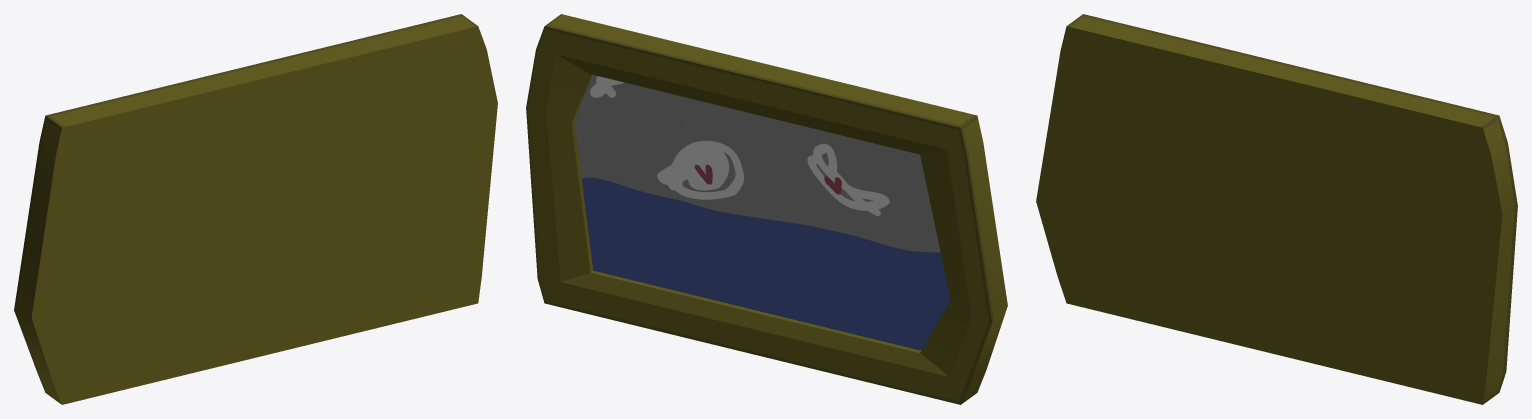
The model's file is BgMD_painting_frame02 (2).fbx.
3 renders of one model, left to right at view 1: azimuth 30°, elevation 25°; view 2: azimuth 150°, elevation 25°; view 3: azimuth 330°, elevation 25°, orthographic.
Visible parts, largest first — view 1: Bg_painting_frame02; view 2: Bg_painting_frame02; view 3: Bg_painting_frame02.
Part boxes in pixels (x1,y1,x2,y2): Bg_painting_frame02: [14, 14, 497, 404]; Bg_painting_frame02: [526, 14, 1007, 404]; Bg_painting_frame02: [1036, 14, 1517, 404].
Size of the model in its own units: 247 by 140 by 15.31.
Materials: 1 (1 with a texture image).
